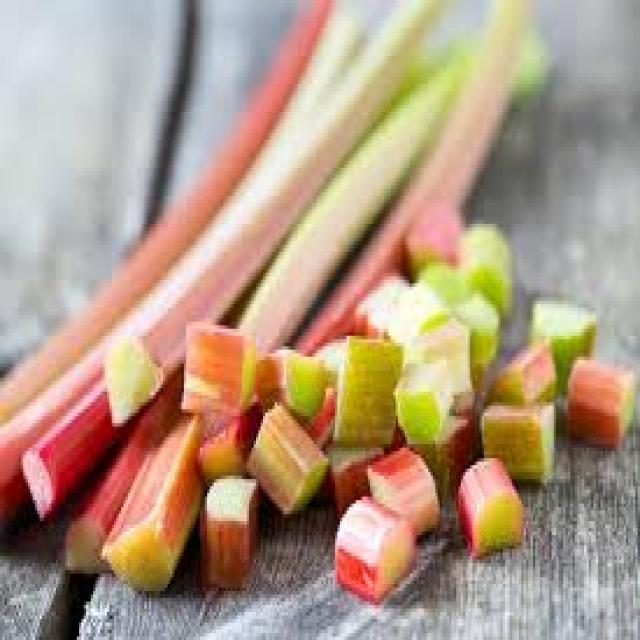organic waste: (0, 0, 545, 595), (244, 392, 322, 514), (333, 493, 414, 602), (328, 332, 403, 448), (174, 318, 260, 416), (193, 468, 258, 588), (475, 395, 554, 486), (454, 448, 524, 549), (363, 444, 433, 539), (356, 273, 440, 350), (561, 350, 631, 440), (528, 290, 591, 388), (321, 437, 391, 525), (254, 343, 335, 416), (405, 409, 472, 497), (456, 217, 512, 315), (479, 336, 554, 406), (410, 308, 470, 395), (193, 402, 258, 479), (391, 356, 449, 434), (401, 189, 458, 262), (456, 290, 498, 371), (414, 256, 463, 312), (303, 388, 342, 448), (447, 378, 479, 430), (314, 329, 345, 381)
